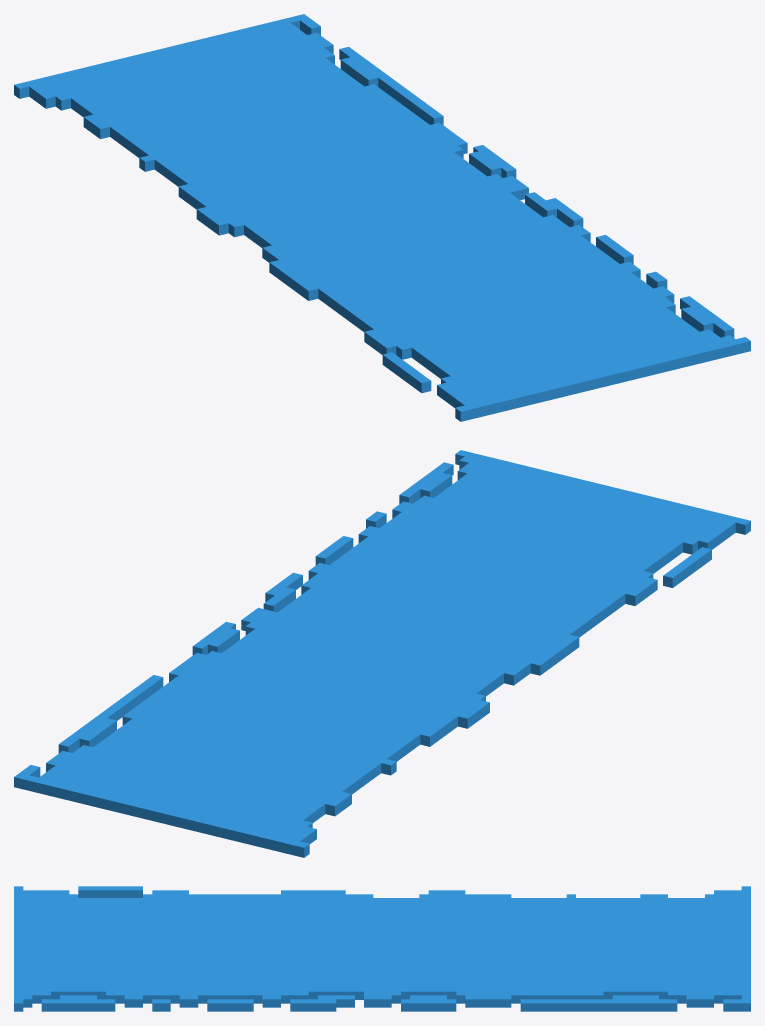
File: river_1_reflection.obj
3 renders of one model, top to bottom at view 1: azimuth 30°, elevation 25°; view 2: azimuth 150°, elevation 25°; view 3: azimuth 270°, elevation 25°, orthographic. The views are drawn at different scales.
Size of the model in its own units: 3 by 0.1 by 8.
